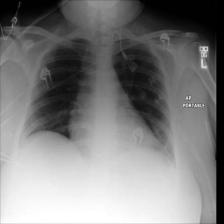normal: (14, 27, 182, 176)
